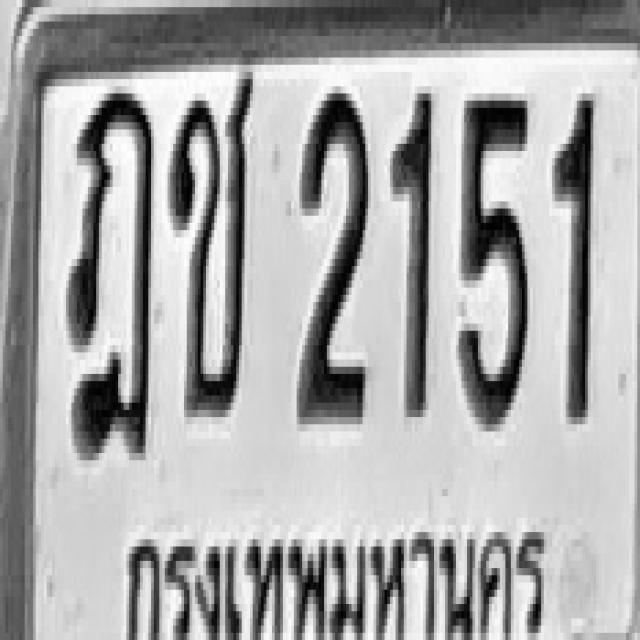1: (552, 90, 593, 421), (390, 86, 431, 417)
19ChorChang: (169, 69, 254, 414)
2: (297, 86, 368, 417)
23DorChaDa: (66, 87, 154, 460)
5: (459, 93, 527, 424)
Bangkok: (115, 497, 558, 640)
